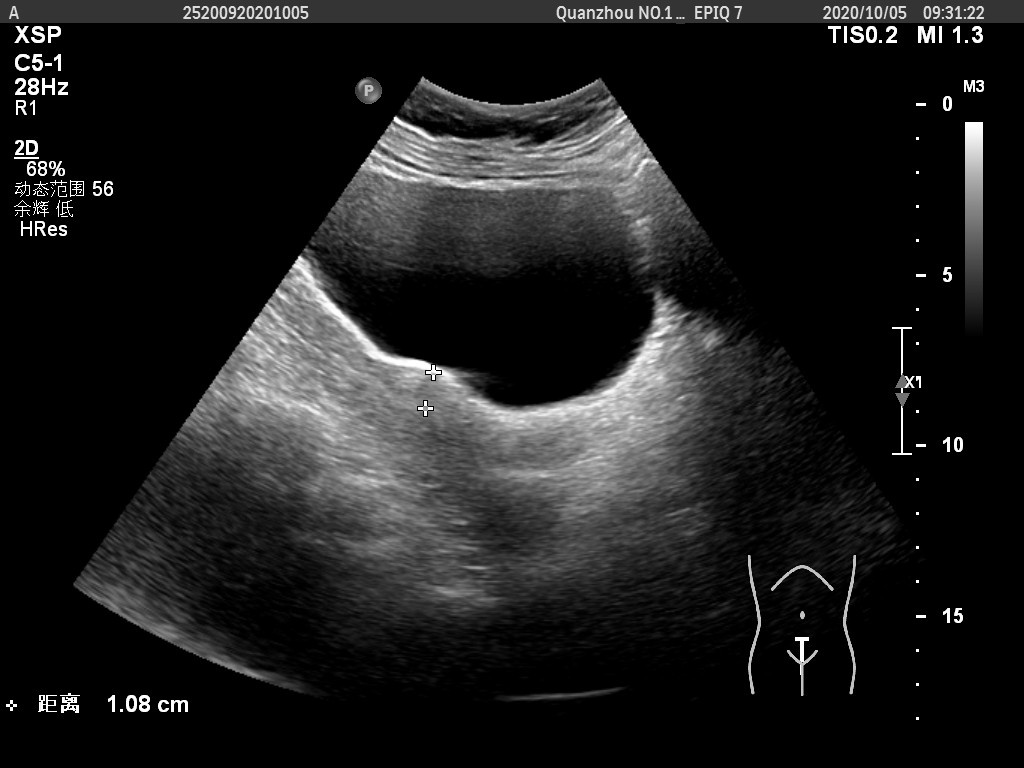肌瘤: (414, 365, 438, 400)
